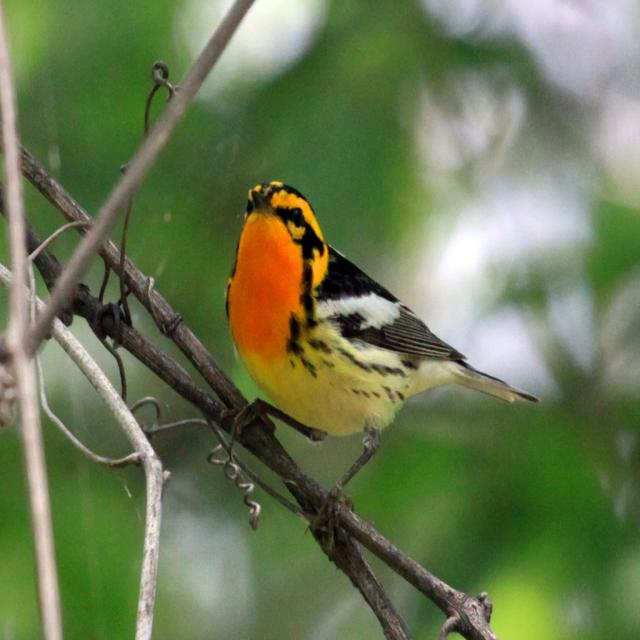bird: (221, 170, 536, 526), (433, 588, 503, 638)
